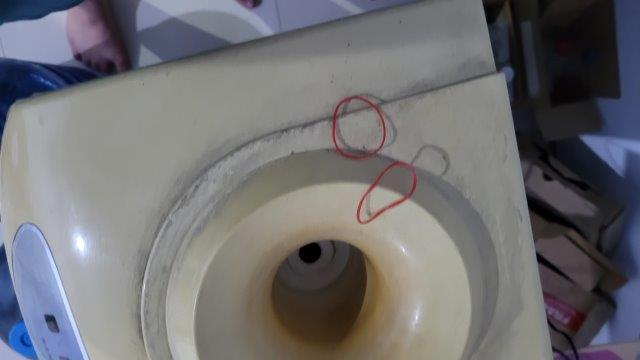karet: (357, 162, 417, 223), (333, 96, 385, 160)
